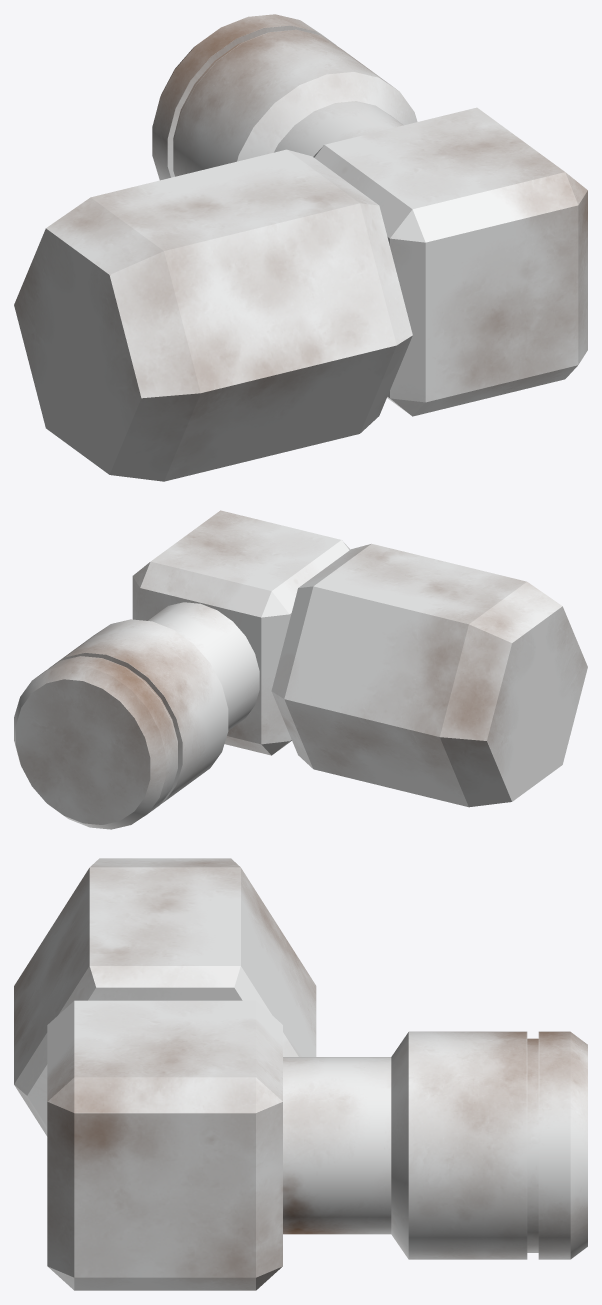
Rendered from Kabel Coaxial.fbx.
The picture shows the model from 3 angles, top to bottom: view 1: azimuth 30°, elevation 25°; view 2: azimuth 150°, elevation 25°; view 3: azimuth 270°, elevation 25°; orthographic projection. The views are drawn at different scales.
Visible parts, largest first — view 1: Cylinder.001, Cube, Cylinder; view 2: Cylinder.001, Cylinder, Cube; view 3: Cube, Cylinder, Cylinder.001.
Part boxes in pixels (bbox=[...]): Cylinder.001: bbox=[14, 149, 412, 481]; Cube: bbox=[313, 107, 587, 416]; Cylinder: bbox=[152, 14, 417, 180]; Cylinder.001: bbox=[271, 543, 587, 807]; Cylinder: bbox=[14, 602, 259, 829]; Cube: bbox=[132, 510, 350, 755]; Cube: bbox=[47, 1000, 282, 1290]; Cylinder: bbox=[283, 1031, 587, 1259]; Cylinder.001: bbox=[14, 858, 316, 1136].
Size of the model in its own units: 7.06 by 3.34 by 7.31.
1 material, 1 textured.
